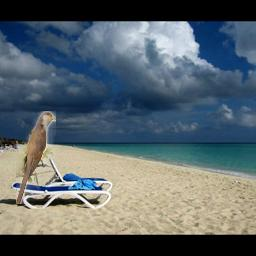Cuckoo: (16, 111, 56, 204)
